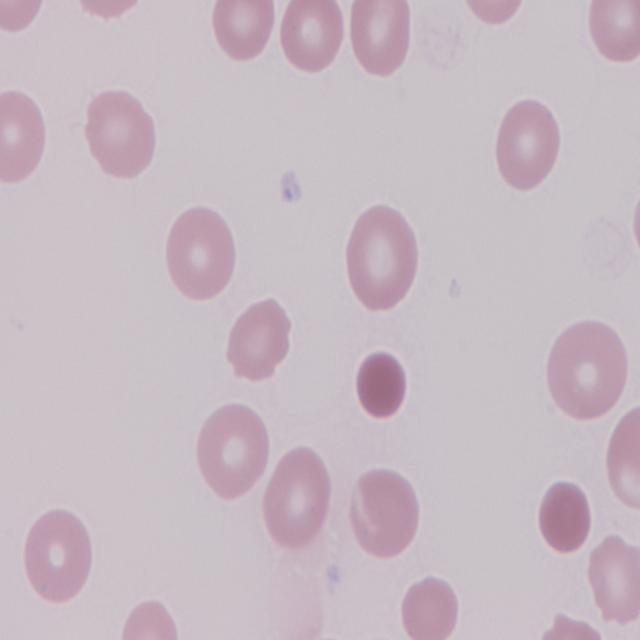RBC: (542, 316, 630, 423), (343, 202, 424, 313), (260, 447, 338, 559), (194, 399, 273, 503), (164, 203, 242, 304), (21, 504, 94, 606), (346, 464, 422, 558), (493, 96, 564, 194), (84, 89, 158, 180), (227, 296, 292, 384), (275, 0, 347, 75), (346, 0, 412, 80), (585, 534, 640, 628), (0, 88, 48, 188), (400, 574, 462, 640), (210, 2, 278, 62), (607, 404, 640, 521), (587, 0, 640, 64), (116, 597, 186, 640), (0, 0, 50, 36)
Spherocyte: (536, 480, 594, 556), (355, 350, 408, 420)
